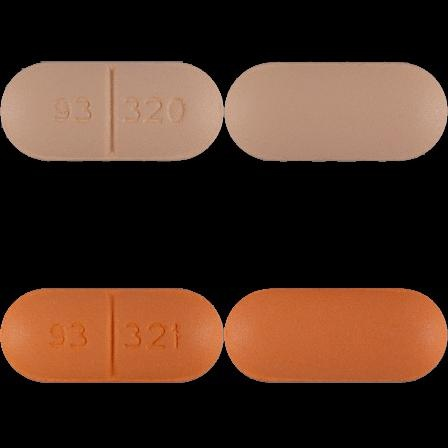0093-0320: (0, 0, 224, 224)
